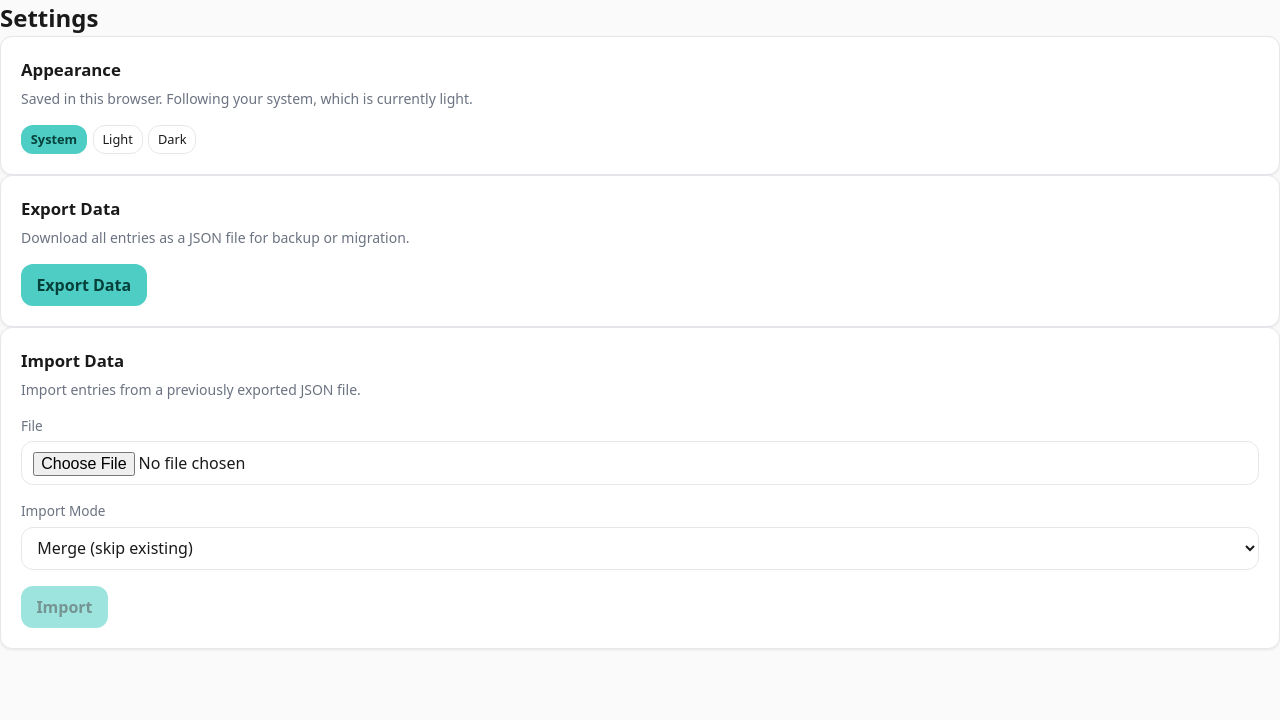
Scenario: pinning dark applies it and persists the choice
Click the button "Dark" at (172, 139), box [148,125,196,154]
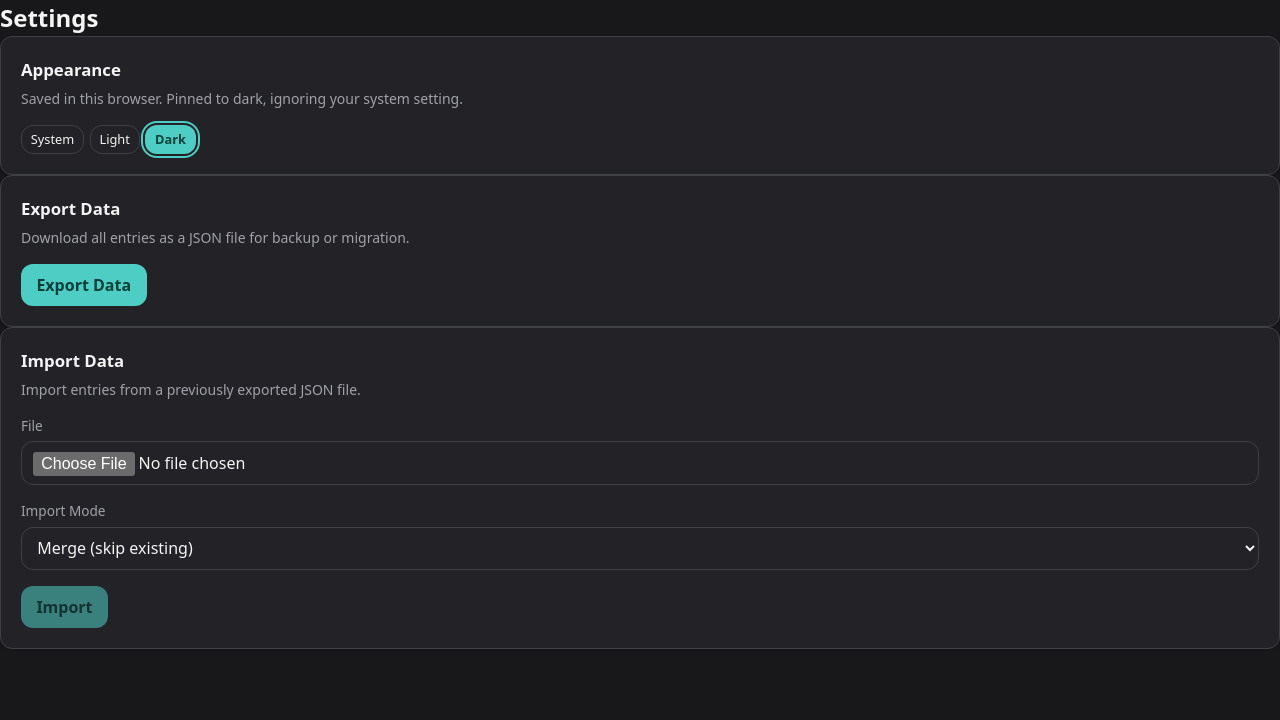
Expected: the text "Pinned to dark" is shown, [166,89,463,108]
